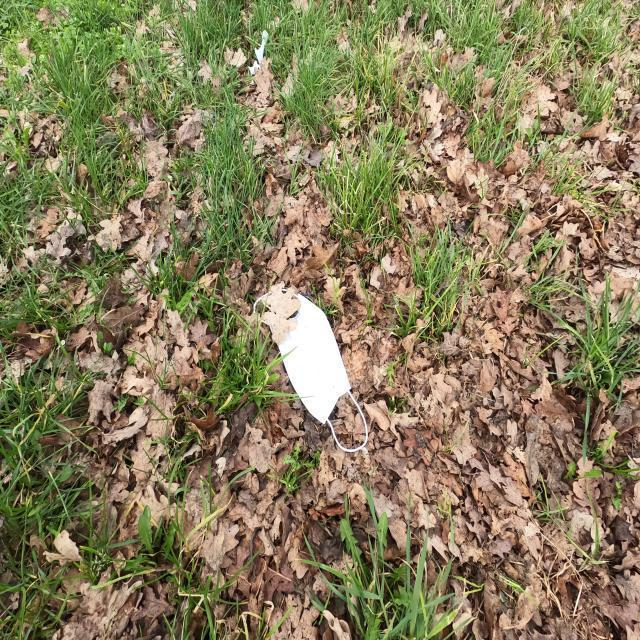Mask: (254, 277, 371, 457)
